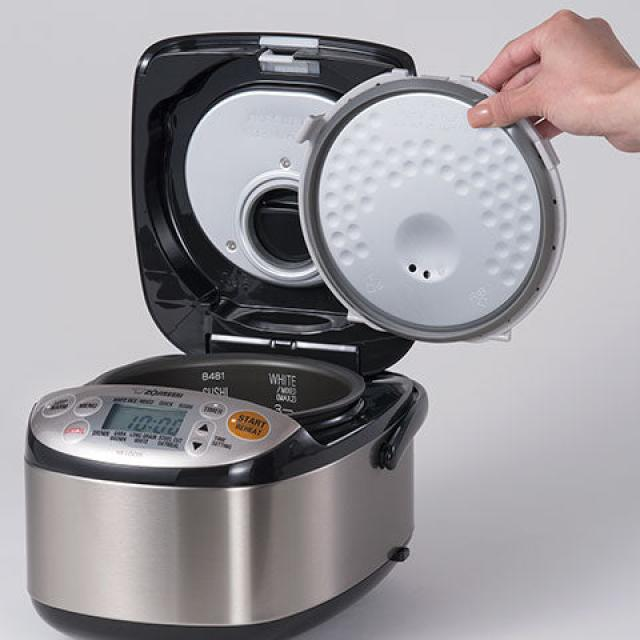appliances: (27, 35, 563, 636)
electronics: (28, 355, 424, 636), (299, 71, 563, 339), (183, 87, 332, 284), (32, 384, 299, 467), (327, 388, 331, 392), (335, 380, 339, 384), (331, 380, 332, 383)
